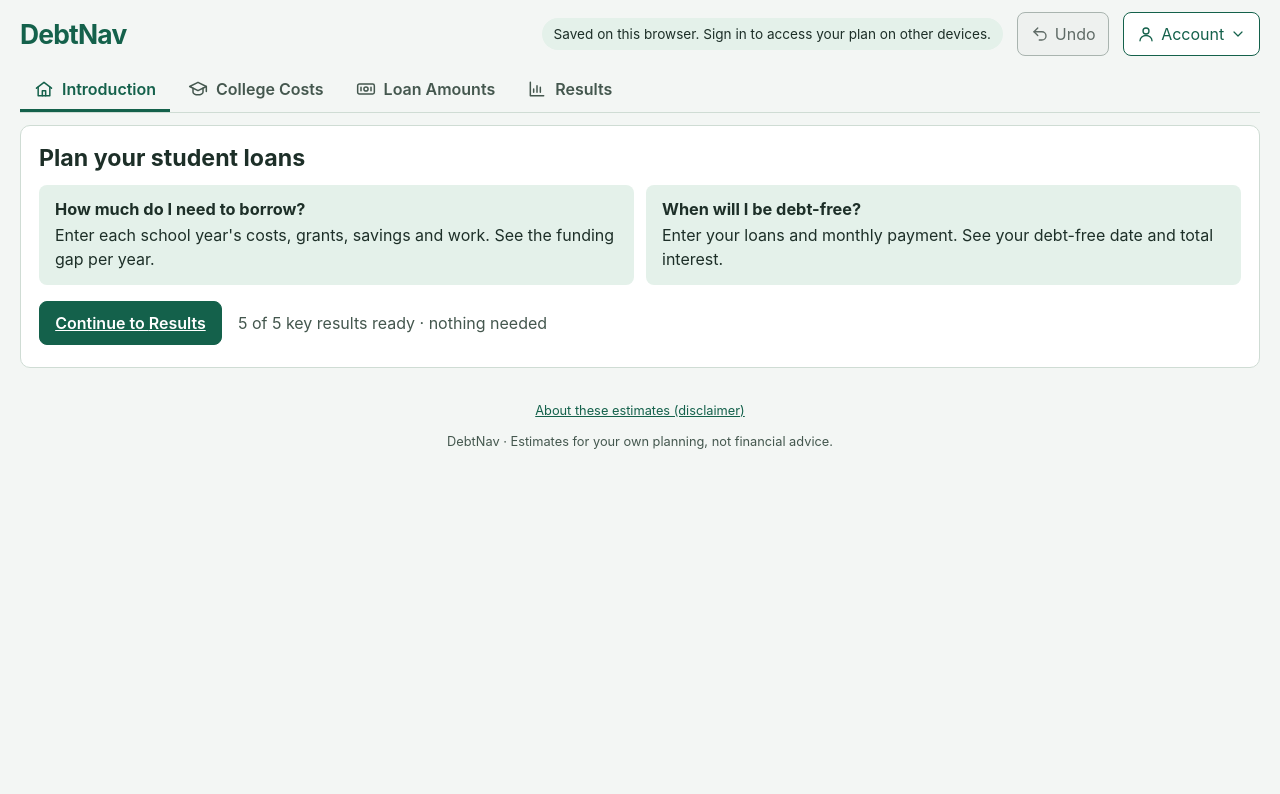
Scenario: payment timing (US-507) › lists each loan's first required payment with its basis, separately from the first voluntary payment
Click the link "Results" at (570, 88), box [527,78,612,98]
(page scrolled)
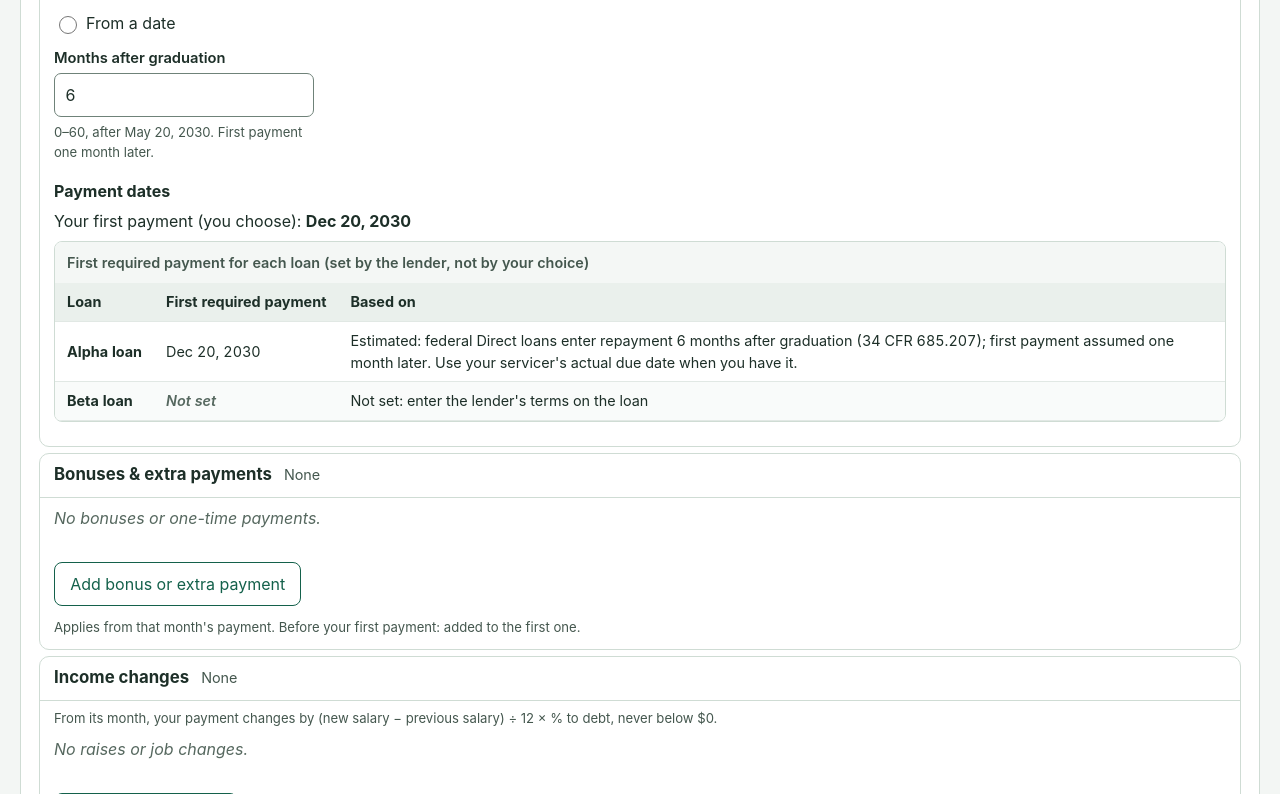
Expected: the row that starts with "Beta loan" is shown, [67,392,133,409]
